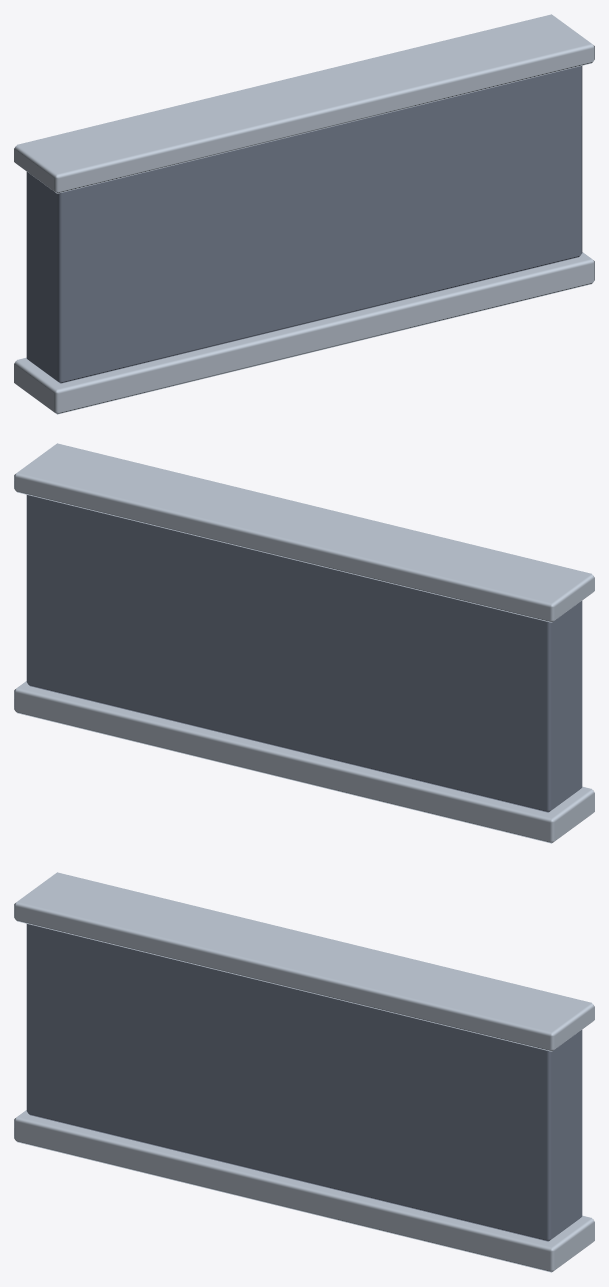
Rendered from garden-low-wall-lite.glb.
The picture shows the model from 3 angles, top to bottom: view 1: azimuth 30°, elevation 25°; view 2: azimuth 150°, elevation 25°; view 3: azimuth 330°, elevation 25°; orthographic projection.
Parts seen in each view (by area): view 1: garden-low-wall; view 2: garden-low-wall; view 3: garden-low-wall.
Part boxes in pixels (box(x1,y1,x2,y2)): garden-low-wall: box(14, 14, 594, 414); garden-low-wall: box(14, 443, 594, 843); garden-low-wall: box(14, 872, 594, 1272).
Bounding box in the file's own units: 2 × 0.85 × 0.28.
